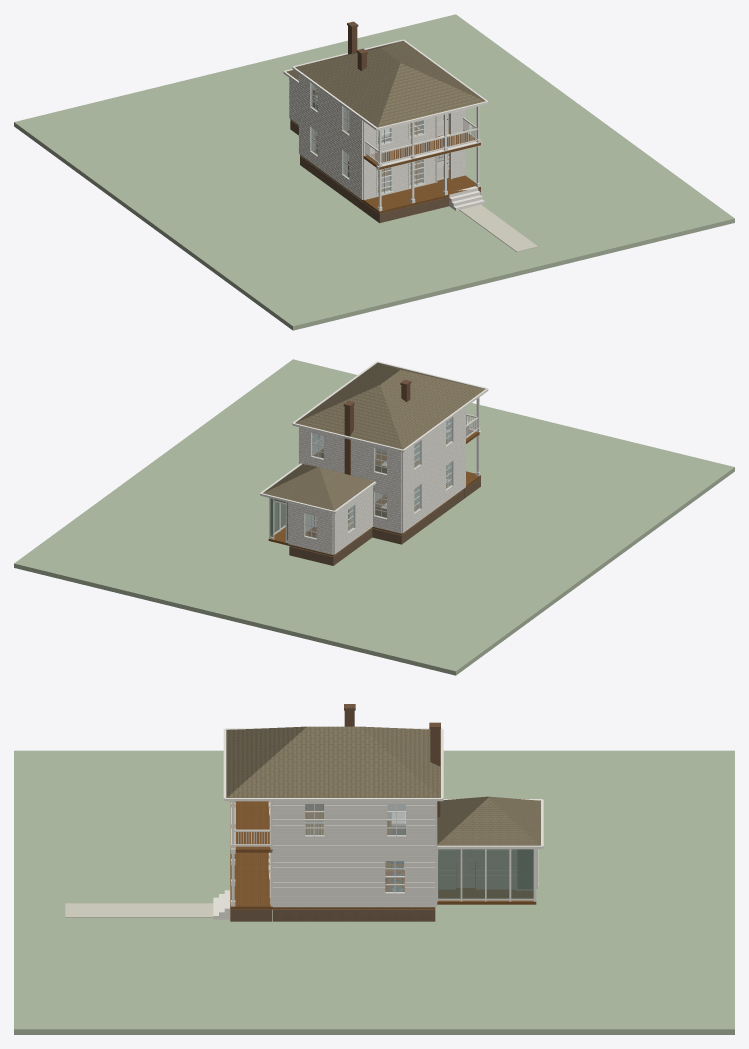
File: yates-ours.glb
3 views of the same model, one above another, from view 1: azimuth 30°, elevation 25°; view 2: azimuth 150°, elevation 25°; view 3: azimuth 270°, elevation 25° (orthographic). The views are drawn at different scales.
Bounding box in the file's own units: 32 × 9.4 × 35.
Materials: 18 (9 with a texture image).
